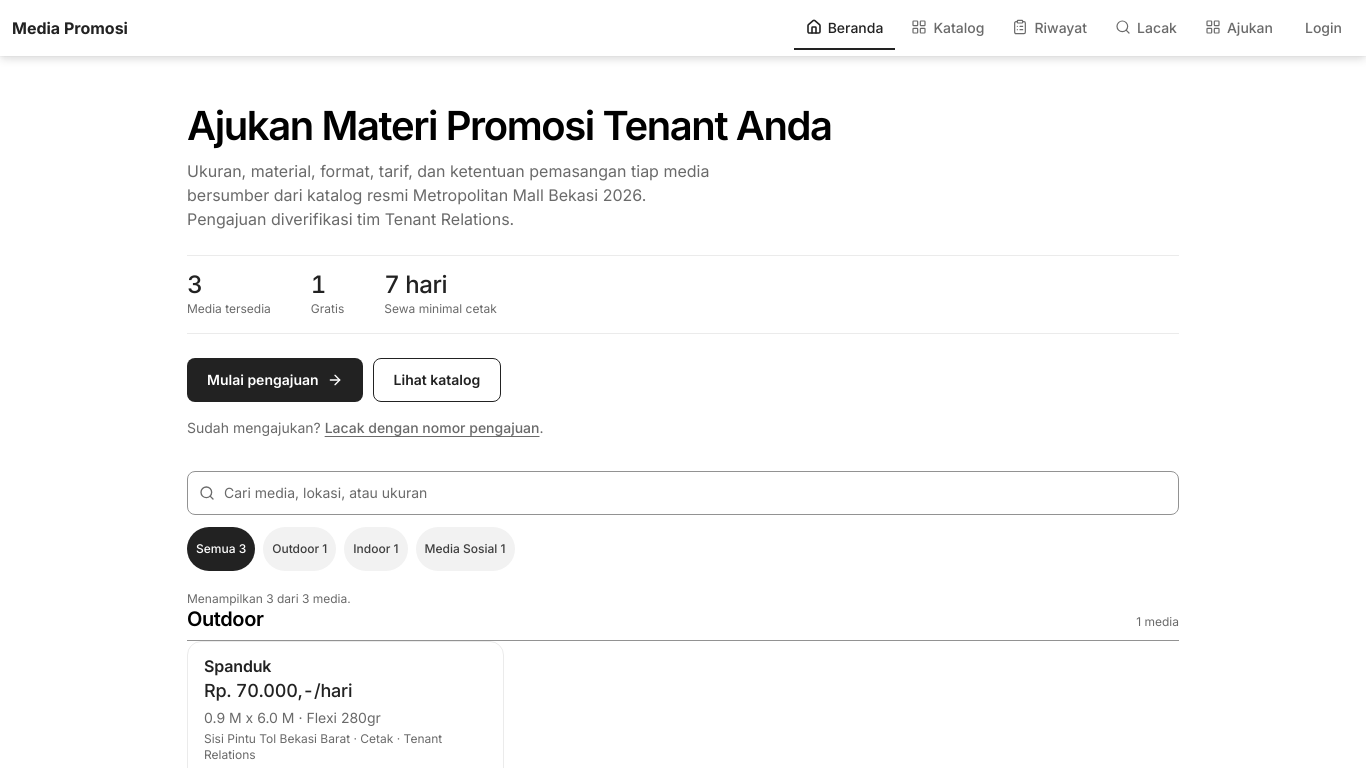
PromoLandingPage - pencarian & filter katalog › mengetik kata di kotak cari → kartu tak cocok hilang, yang cocok tetap
Check: the heading "Spanduk" is shown, box x1=204 y1=656 x2=271 y2=676
Type "videotron" into the search field labelled "Cari media" at (683, 493), box x1=187 y1=471 x2=1179 y2=515
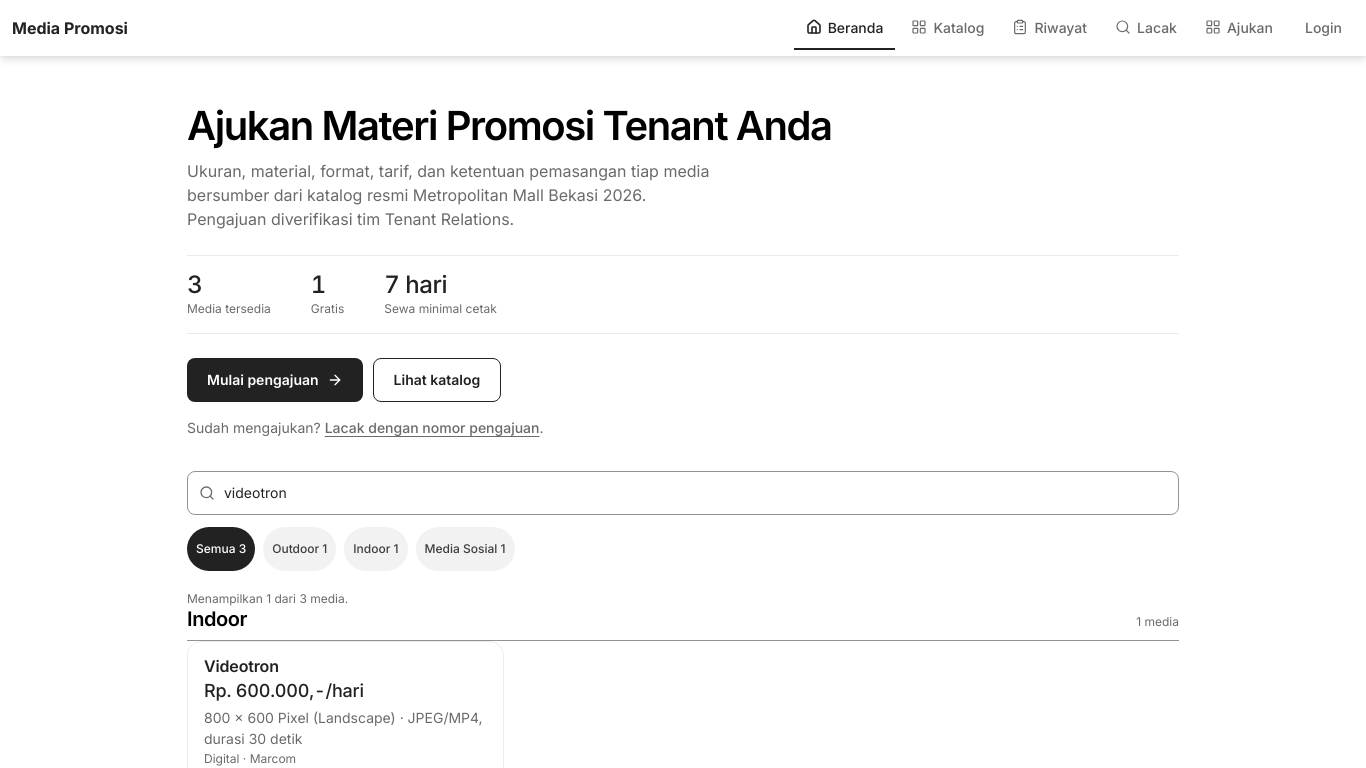
Check: the heading "Videotron" is shown, box x1=204 y1=656 x2=279 y2=676
Check: the heading "Spanduk" is gone
